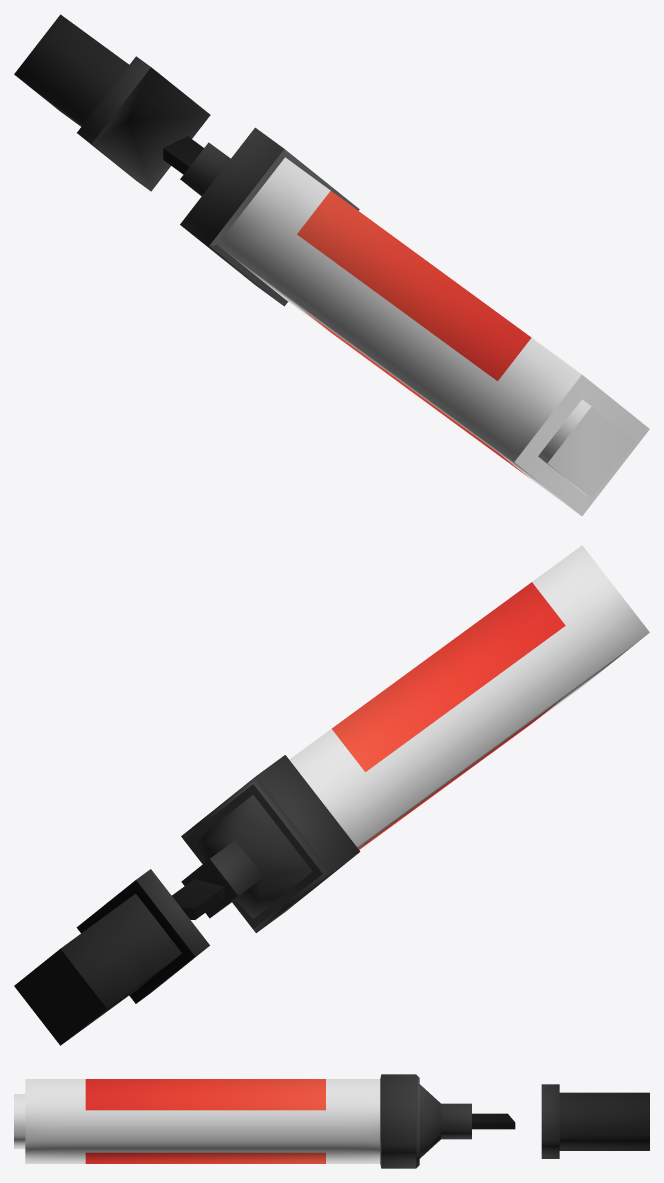
Rendered from CR_Marker_001.FBX.
The picture shows the model from 3 angles, top to bottom: view 1: azimuth 30°, elevation 25°; view 2: azimuth 150°, elevation 25°; view 3: azimuth 270°, elevation 25°; orthographic projection. The views are drawn at different scales.
Visible parts, largest first — view 1: CR_Marker_001; view 2: CR_Marker_001; view 3: CR_Marker_001.
Boxes of the visible parts, x1=… form: CR_Marker_001: x1=14, y1=14, x2=649, y2=516; CR_Marker_001: x1=14, y1=545, x2=649, y2=1045; CR_Marker_001: x1=14, y1=1074, x2=649, y2=1168.
Size of the model in its own units: 2.9 by 2.9 by 17.73.
1 material, 1 textured.
